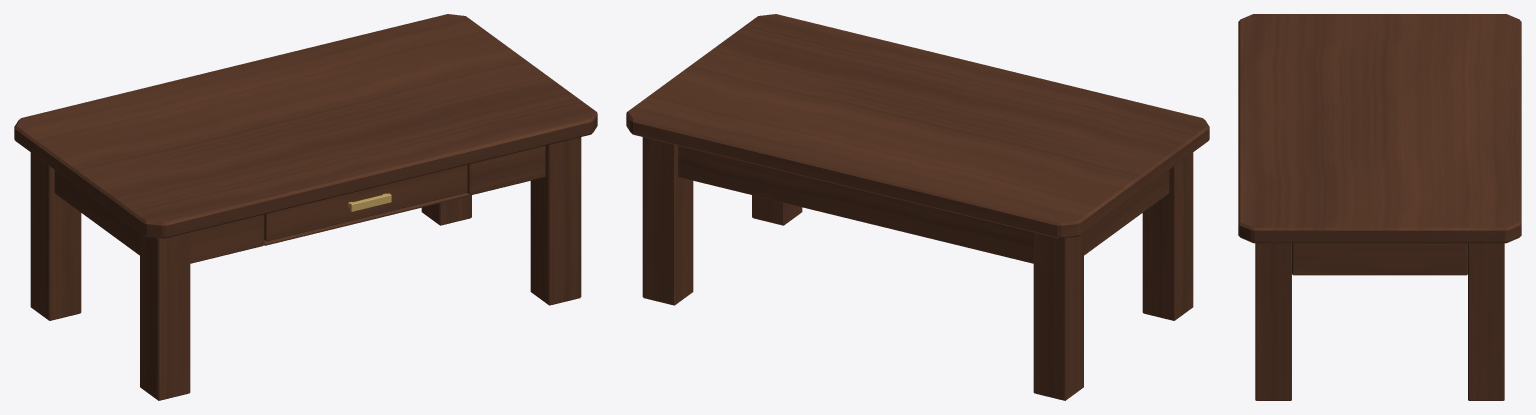
Rendered from 03_Fuzukue.fbx.
The picture shows the model from 3 angles, left to right: view 1: azimuth 30°, elevation 25°; view 2: azimuth 150°, elevation 25°; view 3: azimuth 270°, elevation 25°; orthographic projection. The views are drawn at different scales.
Parts seen in each view (by area): view 1: SM_03_Fuzukue; view 2: SM_03_Fuzukue; view 3: SM_03_Fuzukue.
Boxes of the visible parts, <box> form: SM_03_Fuzukue: <box>14,14,597,400</box>; SM_03_Fuzukue: <box>626,14,1209,400</box>; SM_03_Fuzukue: <box>1238,14,1521,400</box>.
Bounding box in the file's own units: 0.9 × 0.35 × 0.5.
